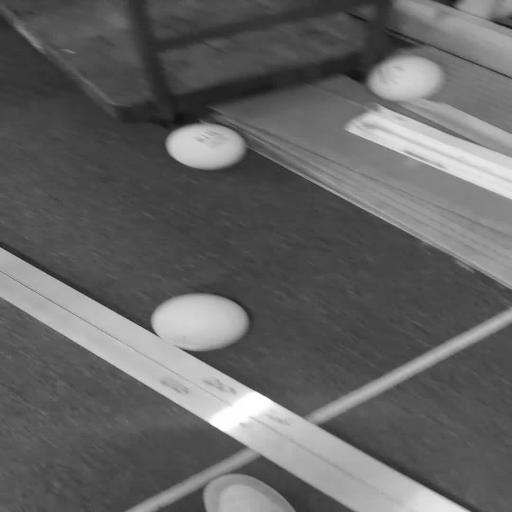fuel: (151, 294, 250, 351), (166, 123, 246, 170), (366, 55, 444, 102)
